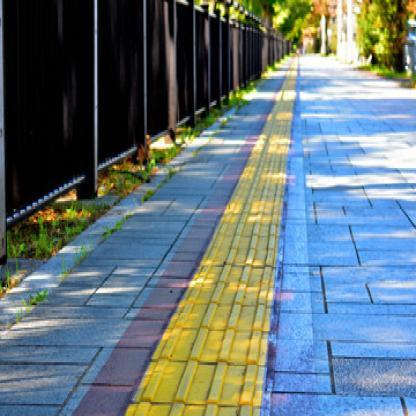podotacti: (120, 24, 340, 415)
